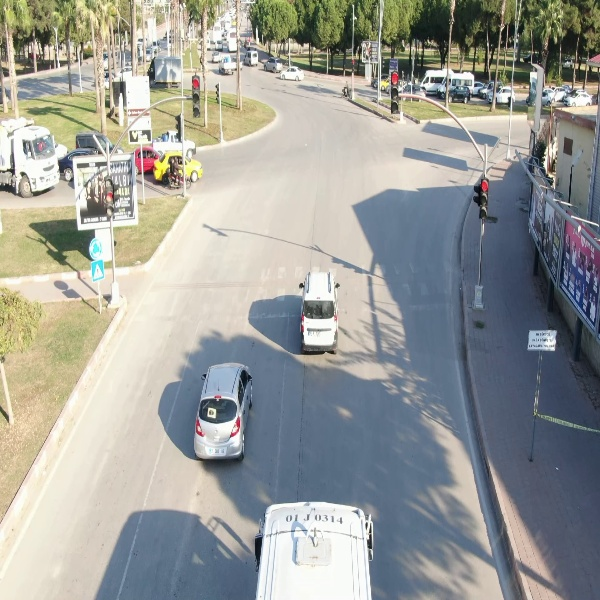car: (190, 361, 254, 465), (296, 267, 343, 358), (486, 86, 517, 106), (563, 89, 595, 107), (280, 65, 307, 82), (449, 84, 472, 103), (262, 55, 284, 72), (241, 50, 262, 66)
